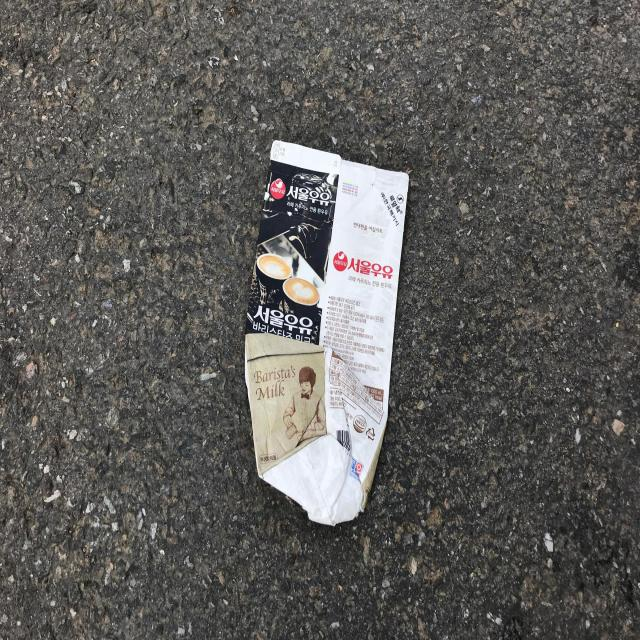paperpack: (245, 143, 409, 526)
